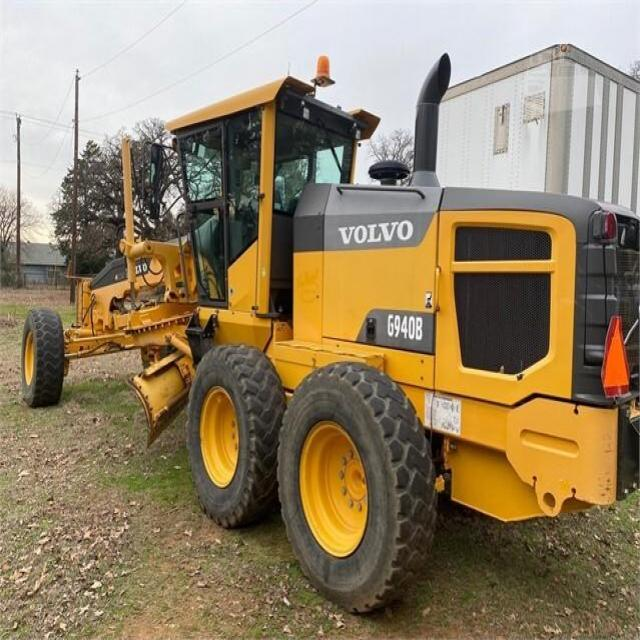Grader: (12, 71, 639, 621)
